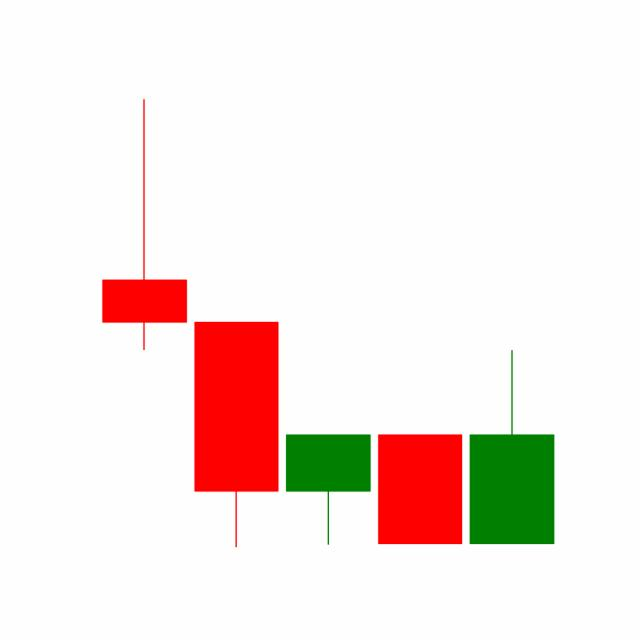Marubozu: (373, 432, 467, 544)
